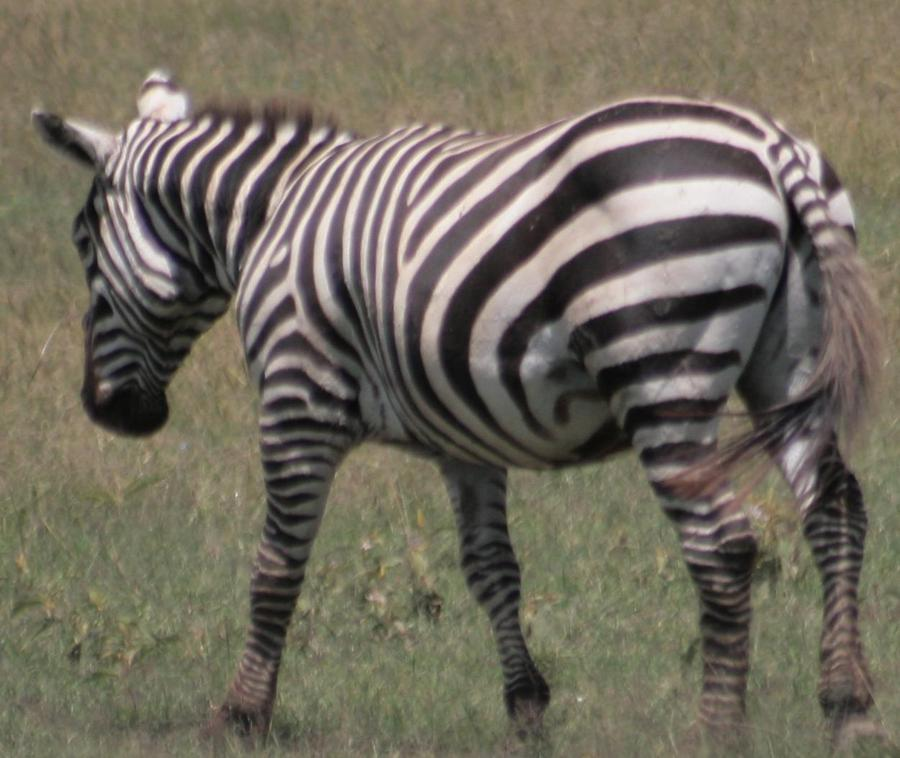zebra_plains: (192, 68, 764, 474)
